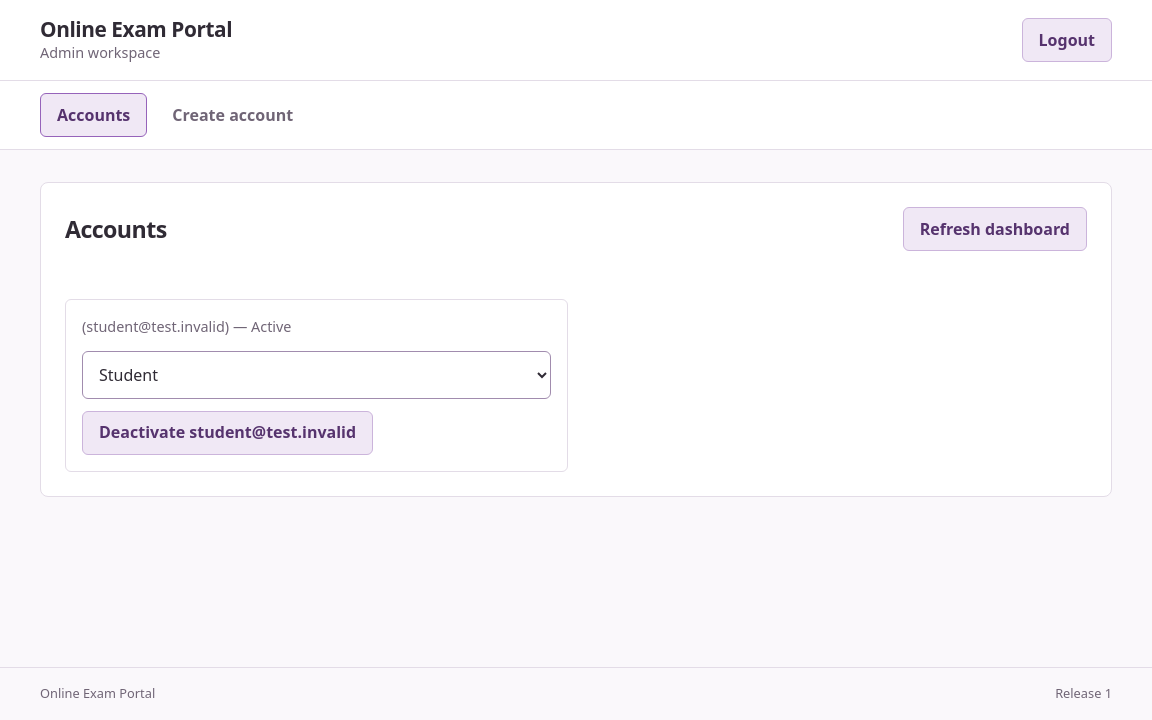
Scenario: clears an old success before a failed update, supports dismissal, and clears messages on tab changes
Click the button "Deactivate student@test.invalid": click(228, 433) [82, 411, 373, 455]
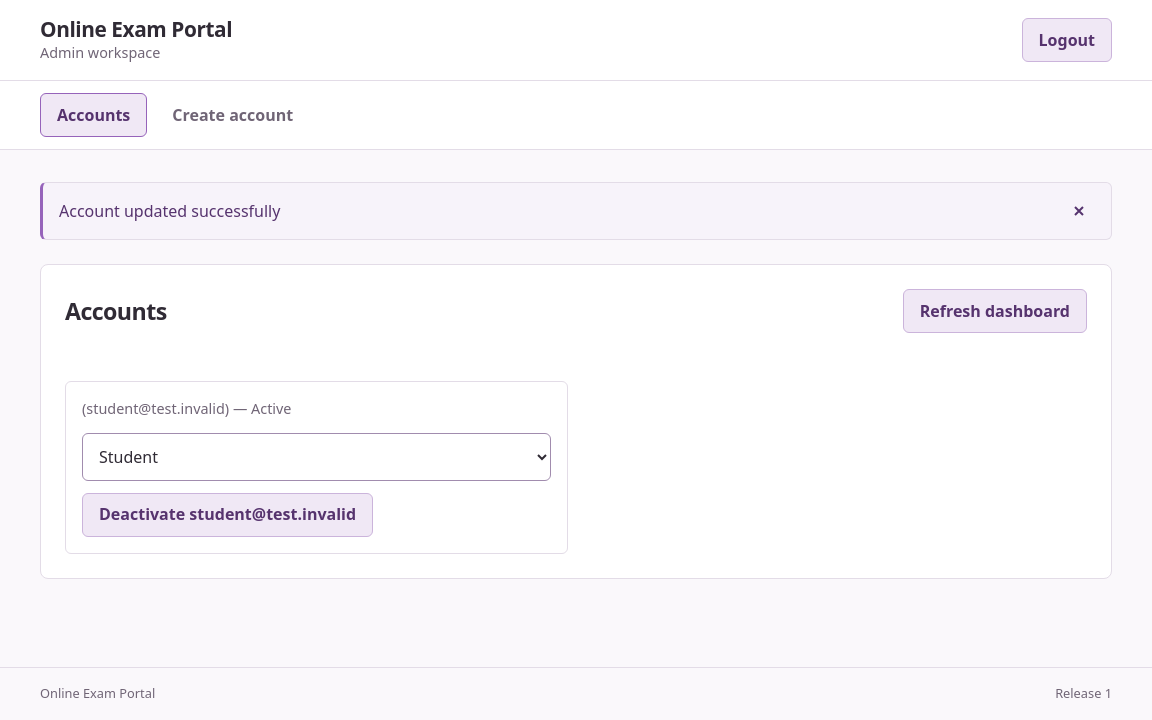
Now the text "Account updated successfully" is shown, box [59, 199, 280, 224]
Click the button "Deactivate student@test.invalid": click(228, 515) [82, 493, 373, 537]
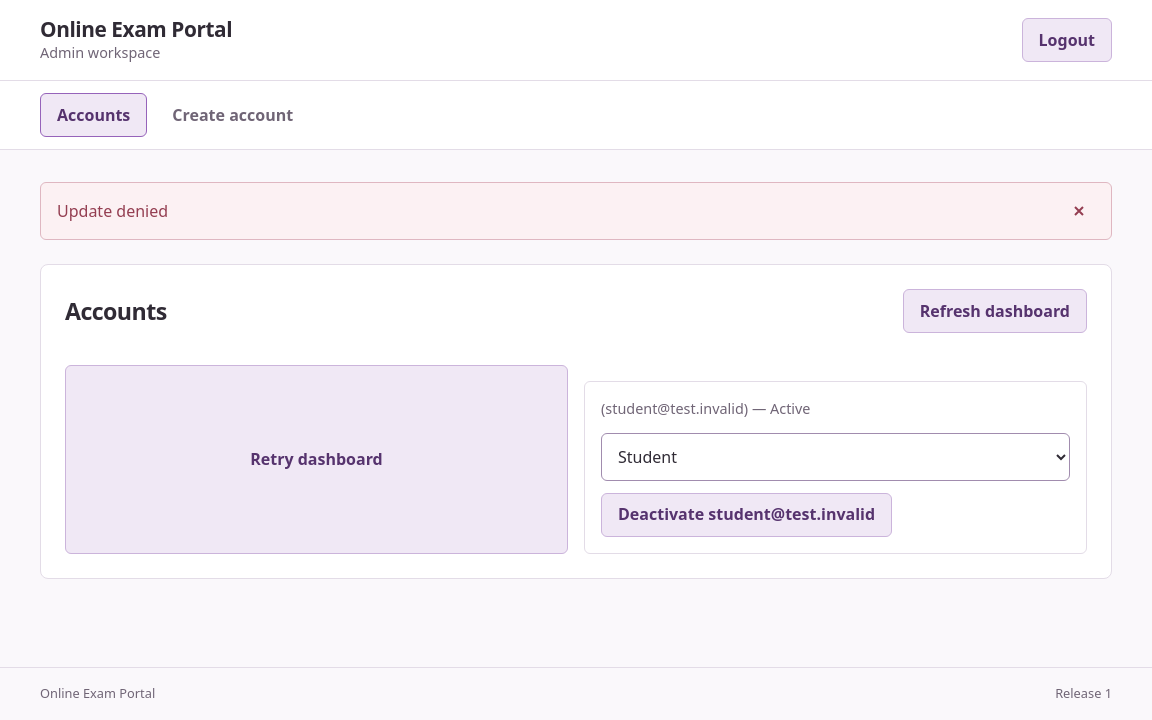
Now the text "Update denied" is shown, box [57, 199, 168, 224]
Now the text "Account updated successfully" is gone
Click the button named "Dismiss notification": click(1079, 211) [1063, 195, 1095, 227]
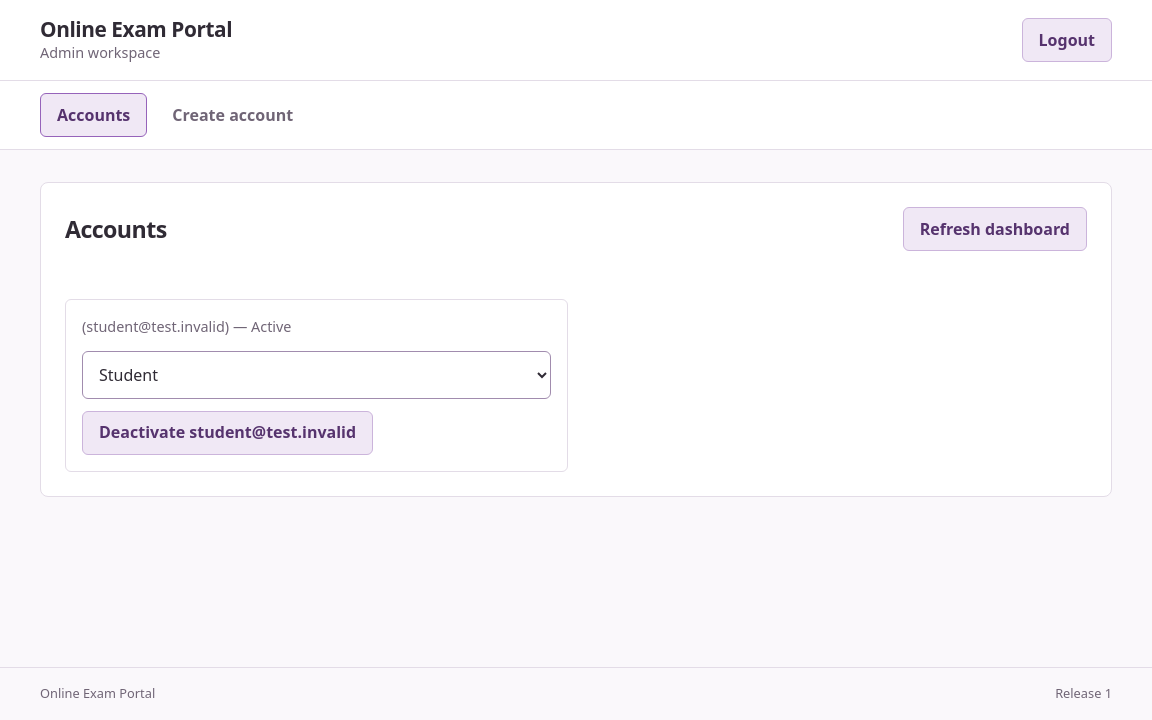
Now the message "Update denied" is gone
Click the button "Deactivate student@test.invalid": click(228, 433) [82, 411, 373, 455]
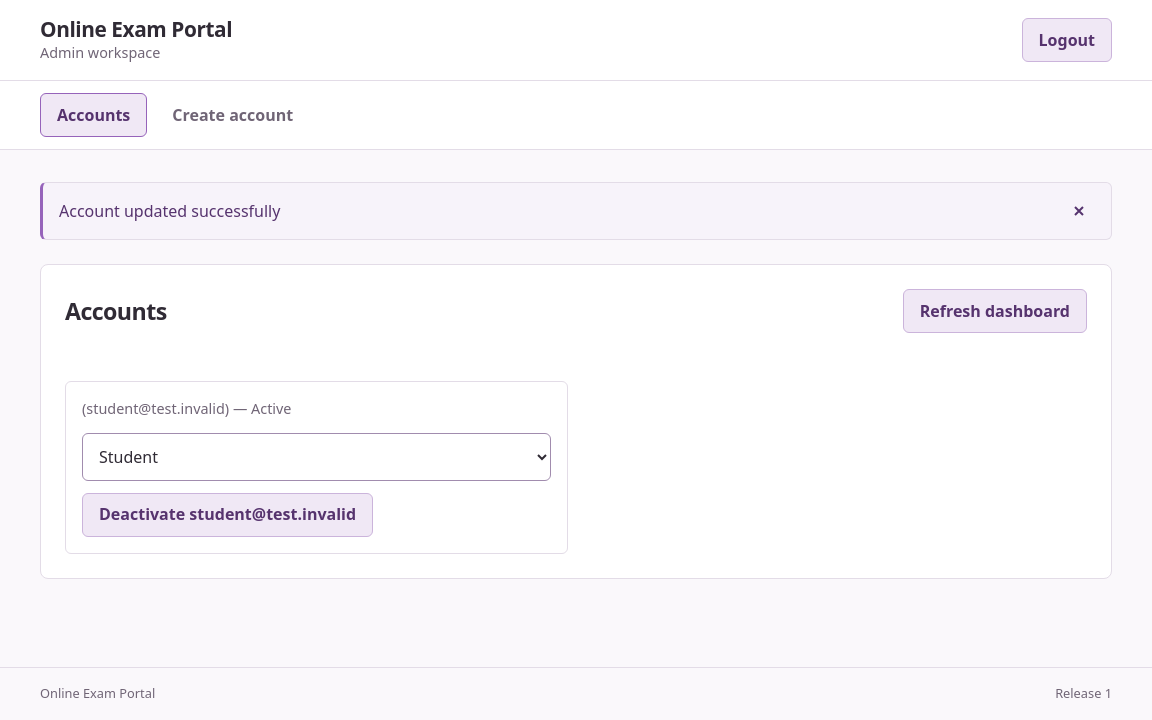
Now the text "Account updated successfully" is shown, box [59, 199, 280, 224]
Click the tab "Create account": click(233, 115) [155, 93, 310, 137]
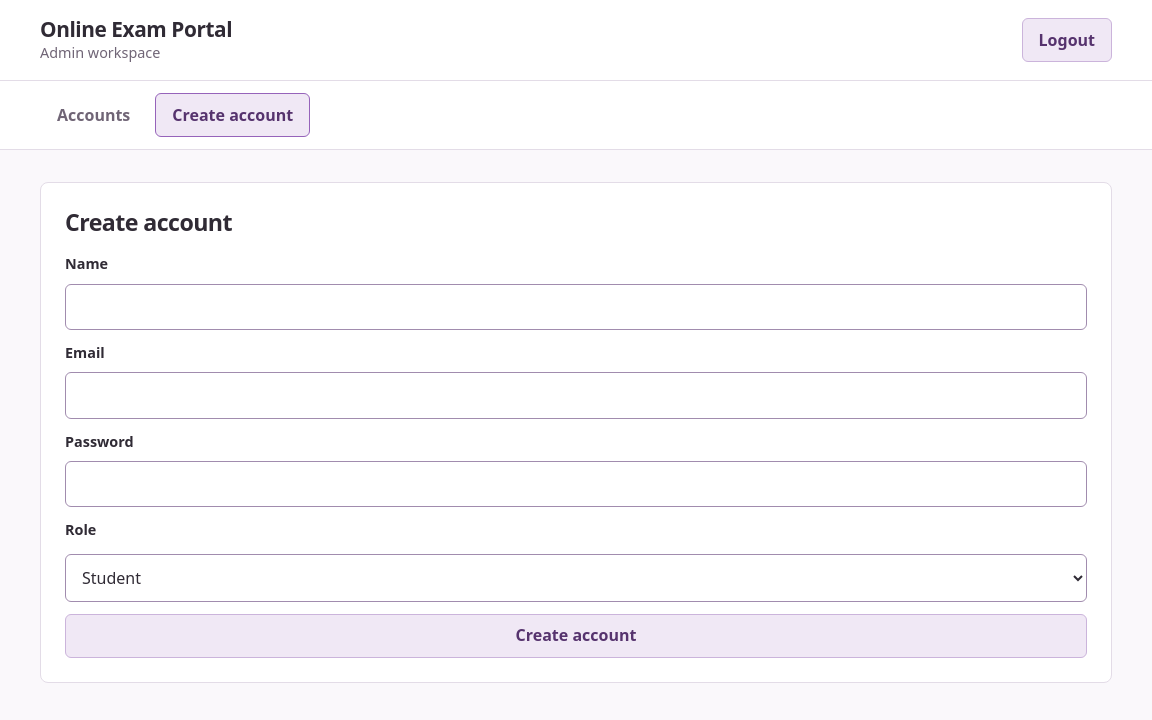
Now the text "Account updated successfully" is gone
